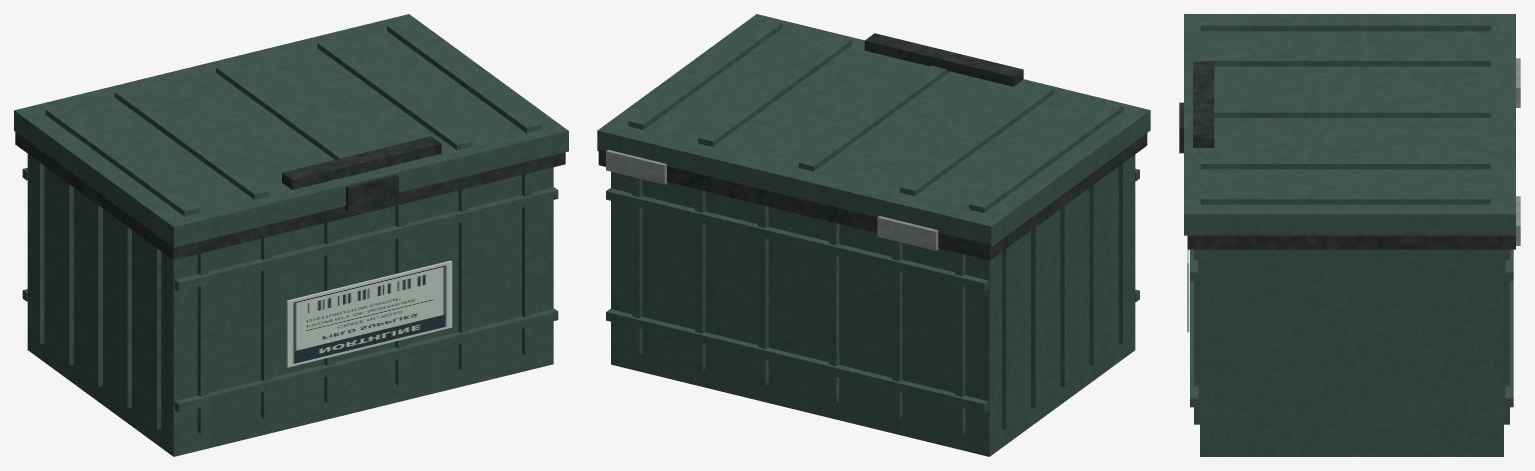
File: MOD_02_MoldedCrate_600x400_Hinged.glb
3 views of the same model, side by side, from view 1: azimuth 30°, elevation 25°; view 2: azimuth 150°, elevation 25°; view 3: azimuth 270°, elevation 25° (orthographic). The views are drawn at different scales.
Visible parts, largest first — view 1: Render_Crate_Lid_MainRibbedPanel, Render_Crate_HollowSidewall_1, Render_Crate_HollowSidewall_3, Render_Crate_Northline_AssetMark, Render_Crate_InteriorBottom, Render_Crate_FrontHorizontalRib_1, Render_Crate_FrontHorizontalRib_2, Render_Crate_TopRim_Front, Render_Crate_Lid_GripRidge, Render_Crate_Lid_RaisedLongStiffener_2, Render_Crate_Lid_RaisedLongStiffener_4, Render_Crate_Lid_RaisedLongStiffener_5 (+16 smaller); view 2: Render_Crate_Lid_MainRibbedPanel, Render_Crate_HollowSidewall_2, Render_Crate_HollowSidewall_3, Render_Crate_InteriorBottom, Render_Crate_RearHorizontalRib_2, Render_Crate_RearHorizontalRib_1, Render_Crate_TopRim_Back, Render_Crate_Lid_GripRidge, Render_Crate_Lid_RaisedLongStiffener_2, Render_Crate_Lid_RaisedLongStiffener_1, Render_Crate_Lid_RaisedLongStiffener_4, Render_Crate_Lid_RaisedLongStiffener_5 (+16 smaller); view 3: Render_Crate_Lid_MainRibbedPanel, Render_Crate_HollowSidewall_4, Render_Crate_InteriorBottom, Render_Crate_TopRim_Right, Render_Crate_Lid_RaisedLongStiffener_1, Render_Crate_Lid_RaisedLongStiffener_4, Render_Crate_Lid_RaisedLongStiffener_5, Render_Crate_Lid_RaisedLongStiffener_2, Render_Crate_Lid_RaisedLongStiffener_3, Render_Crate_Lid_GripRidge, Render_Crate_HollowSidewall_2, Render_Crate_Right_VerticalStiffener_1 (+9 smaller).
Part boxes in pixels (x1,y1,x2,y2): Render_Crate_Lid_MainRibbedPanel: (14,14,568,247); Render_Crate_HollowSidewall_1: (169,167,553,440); Render_Crate_HollowSidewall_3: (32,157,168,436); Render_Crate_Northline_AssetMark: (286,260,452,367); Render_Crate_InteriorBottom: (27,332,553,456); Render_Crate_FrontHorizontalRib_1: (174,308,558,412); Render_Crate_FrontHorizontalRib_2: (174,187,558,291); Render_Crate_TopRim_Front: (164,152,565,259); Render_Crate_Lid_GripRidge: (282,136,441,189); Render_Crate_Lid_RaisedLongStiffener_2: (114,88,269,199); Render_Crate_Lid_RaisedLongStiffener_4: (317,39,472,150); Render_Crate_Lid_RaisedLongStiffener_5: (387,22,541,133); Render_Crate_Lid_MainRibbedPanel: (597,14,1150,246); Render_Crate_HollowSidewall_2: (611,171,994,440); Render_Crate_HollowSidewall_3: (994,158,1130,436); Render_Crate_InteriorBottom: (611,334,1135,456); Render_Crate_RearHorizontalRib_2: (606,188,988,291); Render_Crate_RearHorizontalRib_1: (606,309,988,412); Render_Crate_TopRim_Back: (598,149,998,260); Render_Crate_Lid_GripRidge: (864,33,1023,86); Render_Crate_Lid_RaisedLongStiffener_2: (899,85,1053,196); Render_Crate_Lid_RaisedLongStiffener_1: (969,102,1123,212); Render_Crate_Lid_RaisedLongStiffener_4: (698,36,852,146); Render_Crate_Lid_RaisedLongStiffener_5: (628,19,782,129); Render_Crate_Lid_MainRibbedPanel: (1184,14,1515,235); Render_Crate_HollowSidewall_4: (1209,249,1493,439); Render_Crate_InteriorBottom: (1200,438,1503,456); Render_Crate_TopRim_Right: (1206,235,1497,249); Render_Crate_Lid_RaisedLongStiffener_1: (1200,18,1490,31); Render_Crate_Lid_RaisedLongStiffener_4: (1200,156,1490,169); Render_Crate_Lid_RaisedLongStiffener_5: (1200,191,1490,204); Render_Crate_Lid_RaisedLongStiffener_2: (1200,53,1490,66); Render_Crate_Lid_RaisedLongStiffener_3: (1214,104,1490,117); Render_Crate_Lid_GripRidge: (1193,61,1214,147); Render_Crate_HollowSidewall_2: (1494,249,1503,439); Render_Crate_Right_VerticalStiffener_1: (1225,249,1234,439).
Size of the model in its own units: 0.624 by 0.397 by 0.449.
Materials: 4 (4 with a texture image).
